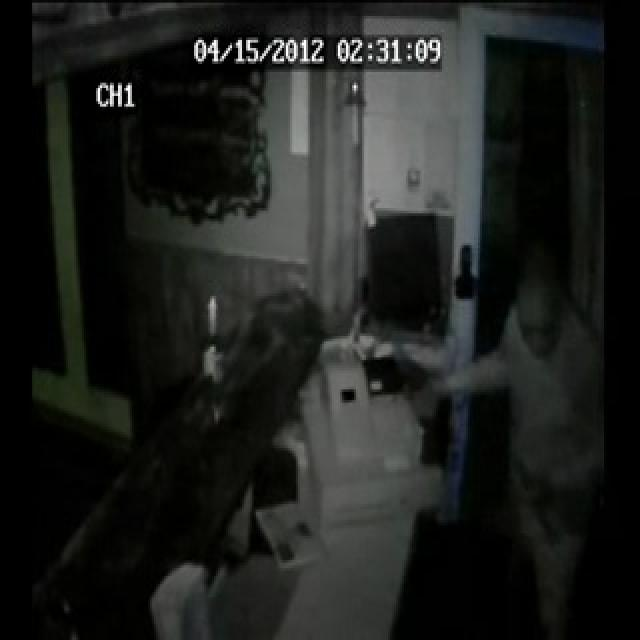thief: (494, 211, 590, 385)
